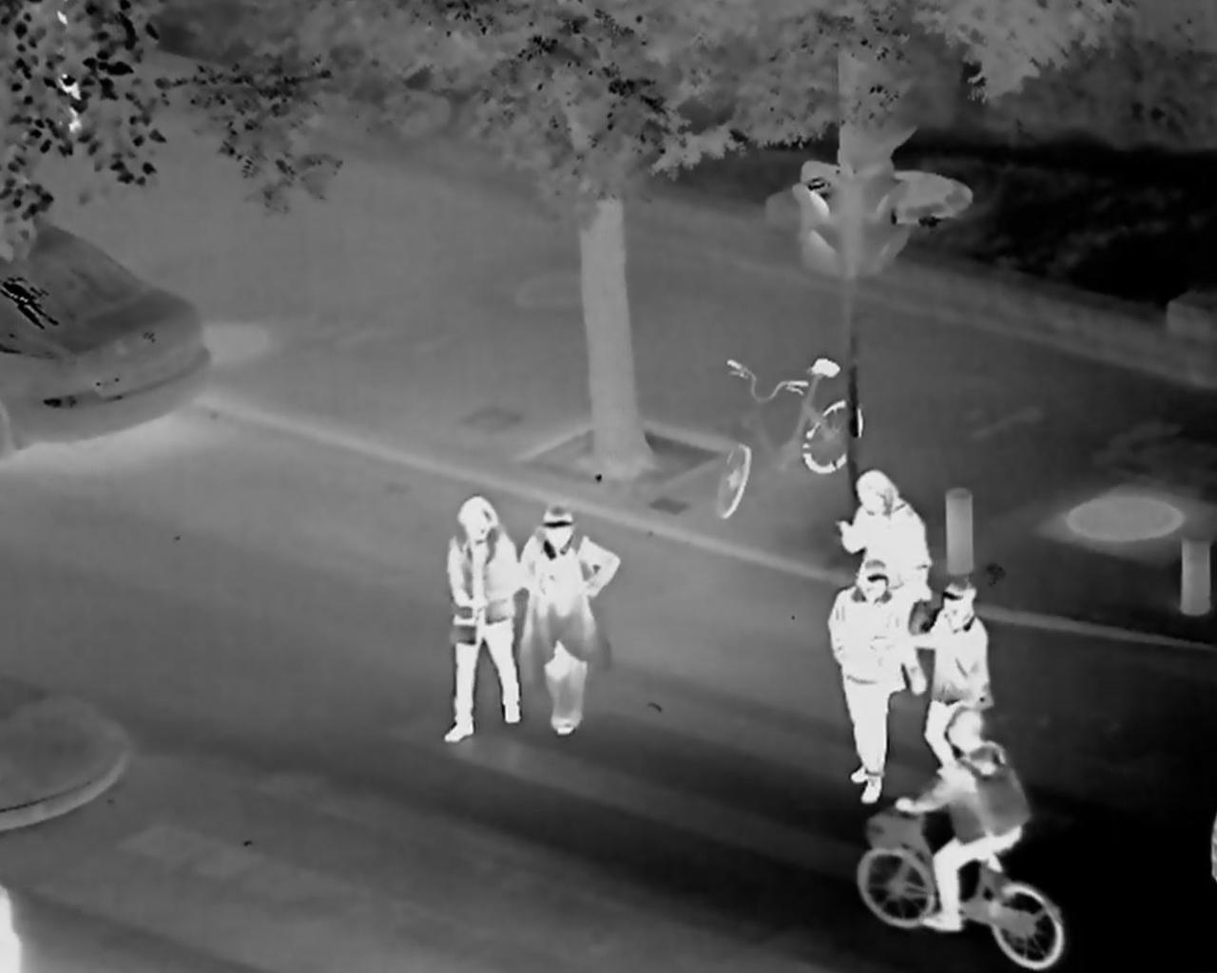person: (889, 708, 1034, 935), (818, 560, 926, 817), (513, 508, 627, 743), (822, 469, 935, 699), (433, 495, 524, 746), (904, 578, 996, 797)
